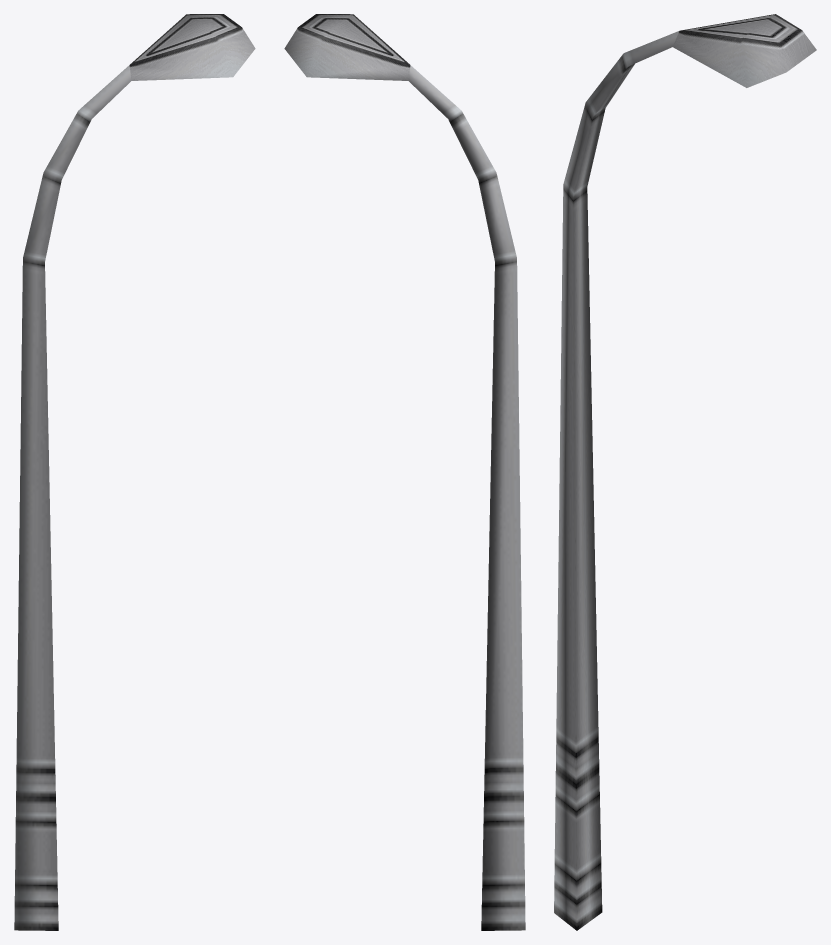
The picture shows the model from 3 angles, left to right: view 1: azimuth 30°, elevation 25°; view 2: azimuth 150°, elevation 25°; view 3: azimuth 330°, elevation 25°; orthographic projection. The views are drawn at different scales.
Parts seen in each view (by area): view 1: 5b2233aecd18d02d045a60f0; view 2: 5b2233aecd18d02d045a60f0; view 3: 5b2233aecd18d02d045a60f0.
Part boxes in pixels (box(x1,y1,x2,y2)): 5b2233aecd18d02d045a60f0: box(14, 14, 255, 930); 5b2233aecd18d02d045a60f0: box(284, 14, 525, 930); 5b2233aecd18d02d045a60f0: box(554, 14, 816, 930).
Bounding box in the file's own units: 3.32 × 11.98 × 1.06.
Materials: 1 (1 with a texture image).
